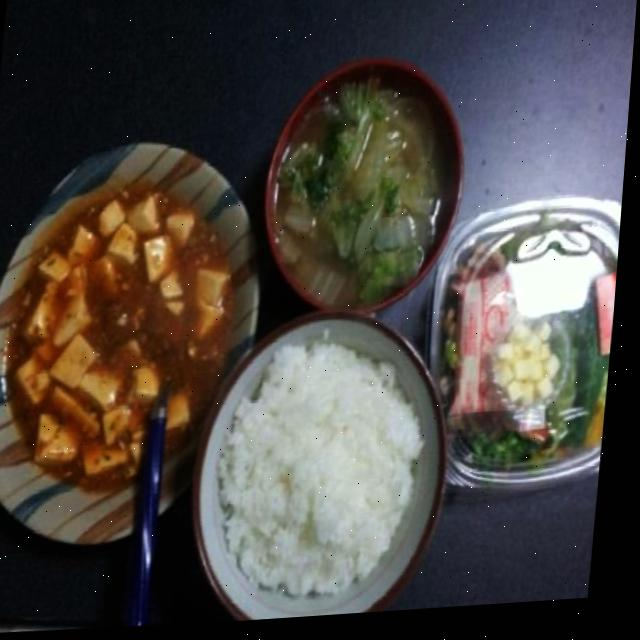汤锅炖物: (258, 50, 481, 326)
米饭主食: (184, 296, 472, 628)
豆腐料理: (0, 120, 280, 562)
